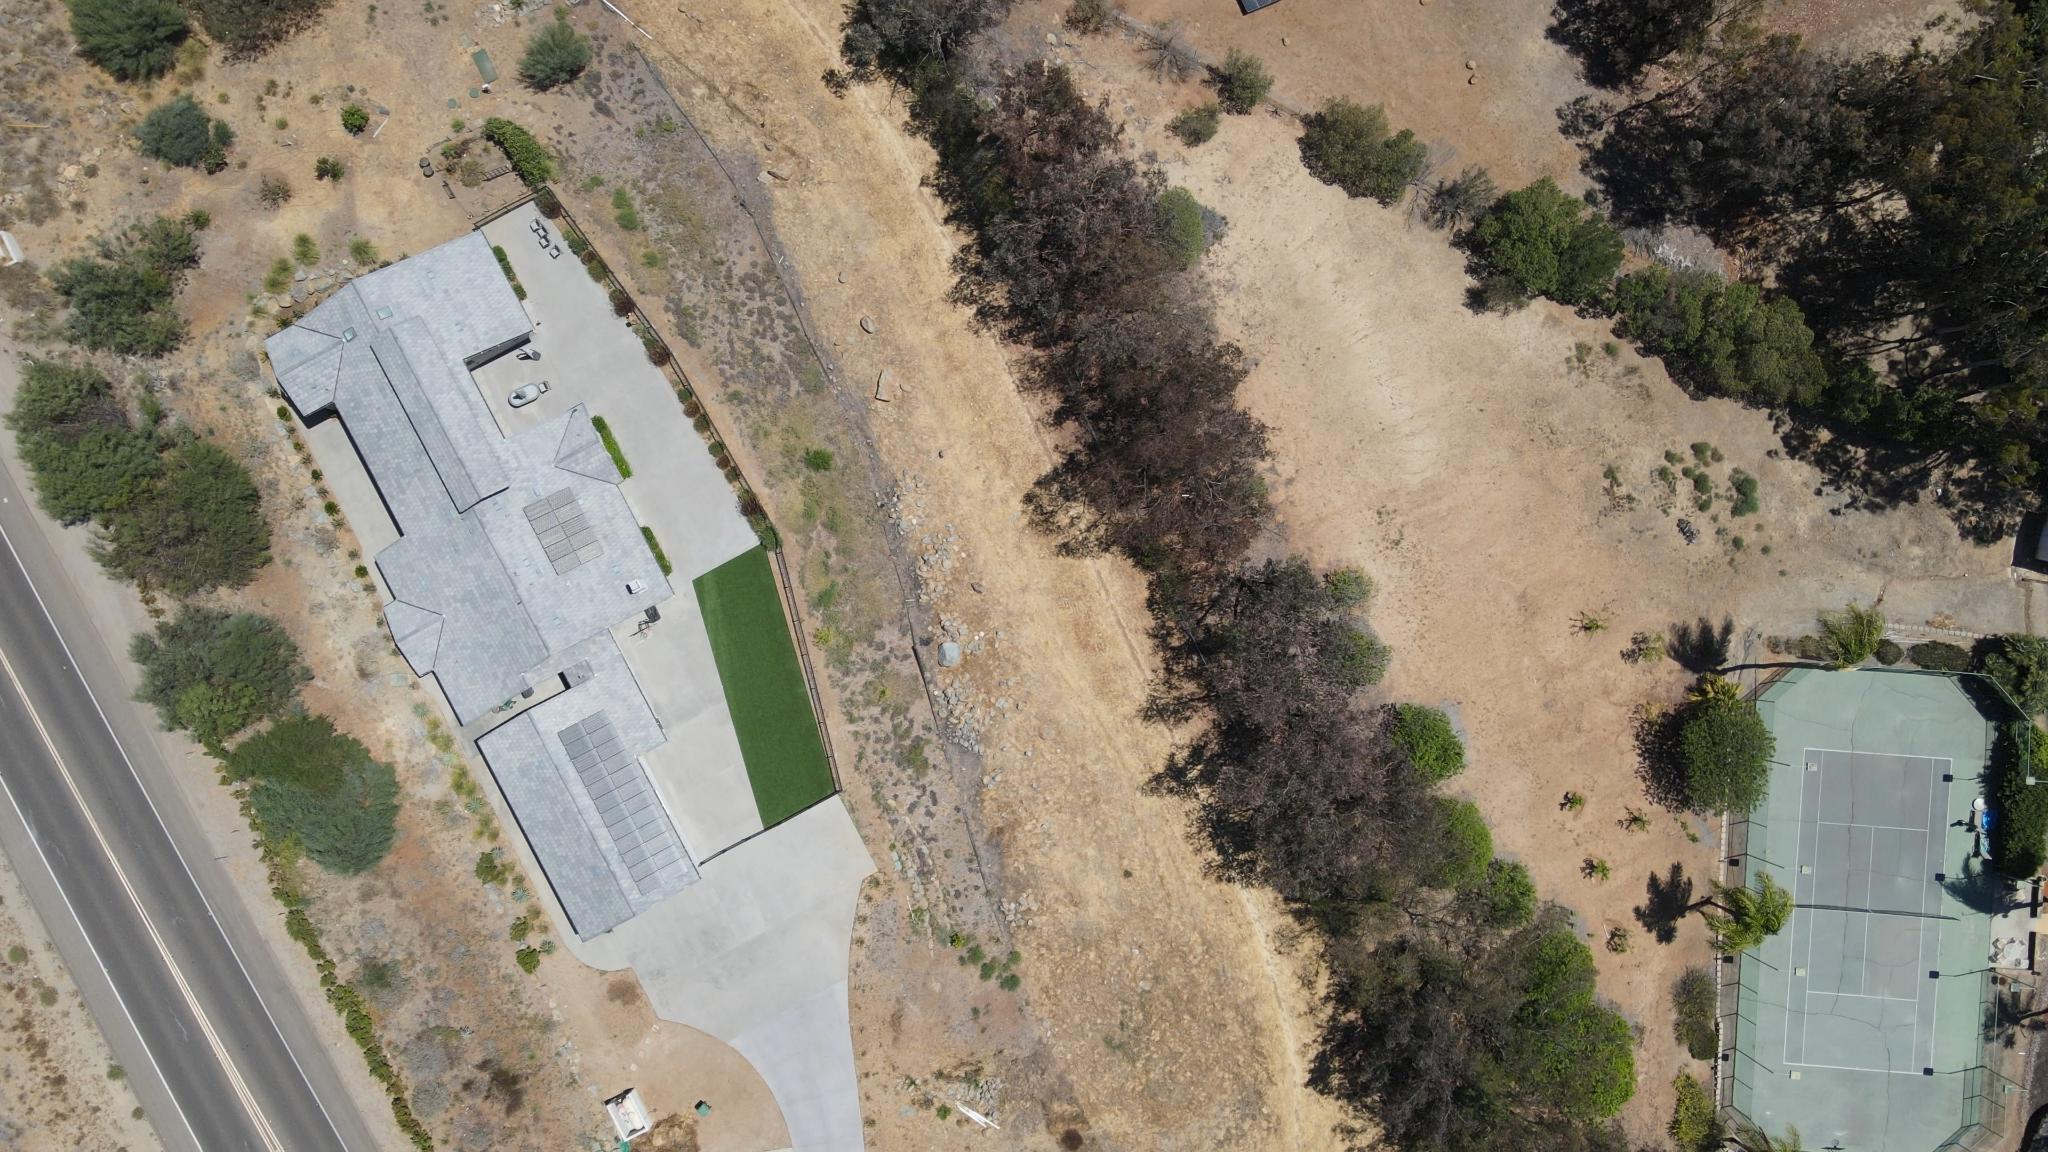solar-panels: (556, 708, 688, 897), (522, 485, 606, 575), (1236, 0, 1278, 14)
